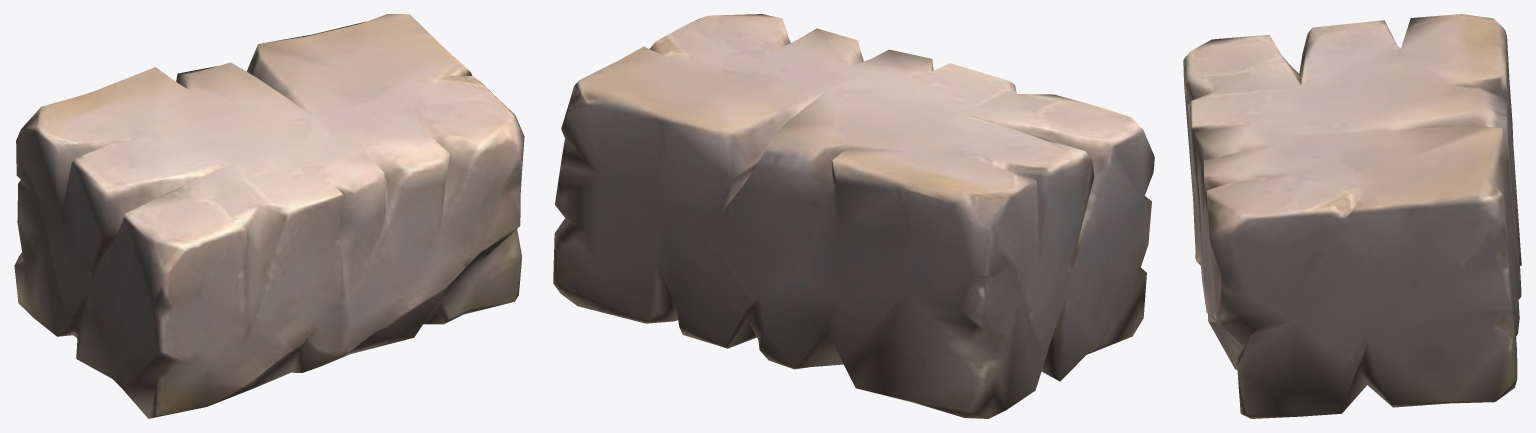
Rendered from stone_block.glb.
The picture shows the model from 3 angles, left to right: view 1: azimuth 30°, elevation 25°; view 2: azimuth 150°, elevation 25°; view 3: azimuth 270°, elevation 25°; orthographic projection. The views are drawn at different scales.
Parts seen in each view (by area): view 1: stone_block; view 2: stone_block; view 3: stone_block.
Boxes of the visible parts, x1,y1,x2,y2 form: stone_block: (14,14,524,418); stone_block: (553,14,1154,418); stone_block: (1183,14,1521,418).
Size of the model in its own units: 1.46 by 0.8 by 1.01.
1 material, 1 textured.
